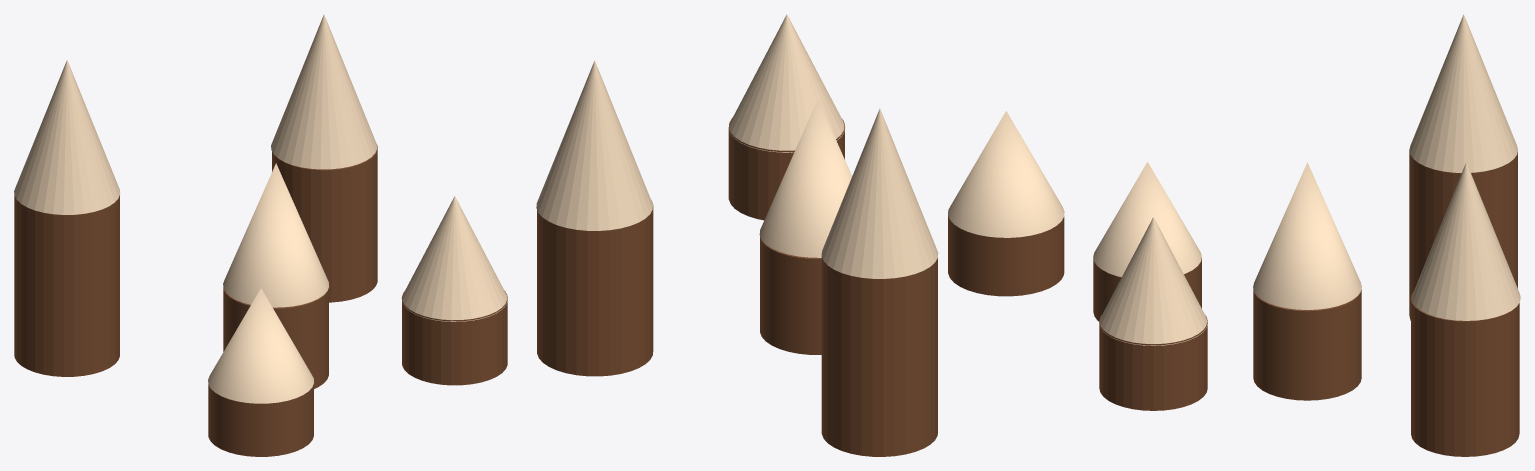
File: thorn.glb
The picture shows the model from 3 angles, left to right: view 1: azimuth 30°, elevation 25°; view 2: azimuth 150°, elevation 25°; view 3: azimuth 270°, elevation 25°; orthographic projection. The views are drawn at different scales.
Visible parts, largest first — view 1: Cylinder.011, Cylinder.004, Cone.003, Cone.010, Cone.002, Cone.001, Cone.004, Cylinder.002, Cylinder.005, Cylinder.003; view 2: Cylinder.011, Cylinder.004, Cone.003, Cone.010, Cone.004, Cone.001, Cone.002, Cylinder.005, Cylinder.003, Cylinder.002; view 3: Cylinder.004, Cylinder.003, Cone.003, Cone.010, Cone.002, Cone.001, Cylinder.002, Cylinder.011, Cone.004, Cylinder.005.
Part boxes in pixels (x1,y1,x2,y2): Cylinder.011: [14, 195, 119, 376]; Cylinder.004: [272, 145, 377, 302]; Cone.003: [271, 14, 376, 169]; Cone.010: [14, 60, 120, 214]; Cone.002: [223, 163, 329, 307]; Cone.001: [401, 196, 507, 321]; Cone.004: [208, 288, 314, 403]; Cylinder.002: [402, 290, 507, 385]; Cylinder.005: [208, 384, 313, 456]; Cylinder.003: [223, 288, 328, 388]; Cylinder.011: [821, 257, 937, 456]; Cylinder.004: [537, 200, 653, 376]; Cone.003: [536, 60, 652, 230]; Cone.010: [821, 108, 938, 278]; Cone.004: [948, 111, 1064, 237]; Cone.001: [728, 14, 845, 152]; Cone.002: [759, 99, 851, 257]; Cylinder.005: [948, 215, 1064, 296]; Cylinder.003: [760, 236, 821, 354]; Cylinder.002: [728, 118, 844, 220]; Cylinder.004: [1411, 292, 1519, 456]; Cylinder.003: [1253, 289, 1361, 400]; Cone.003: [1412, 162, 1520, 320]; Cone.010: [1409, 14, 1517, 172]; Cone.002: [1253, 162, 1361, 309]; Cone.001: [1099, 217, 1207, 345]; Cylinder.002: [1099, 315, 1207, 410]; Cylinder.011: [1409, 151, 1517, 320]; Cone.004: [1093, 162, 1201, 277]; Cylinder.005: [1093, 258, 1201, 321].
Bounding box in the file's own units: 1.91 × 1.54 × 1.97.
